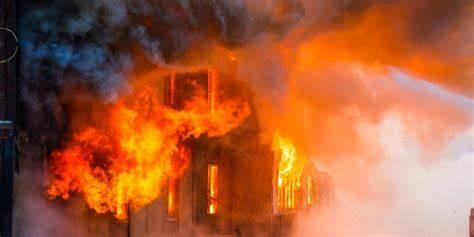Fire: (40, 85, 266, 223), (272, 109, 358, 213)
